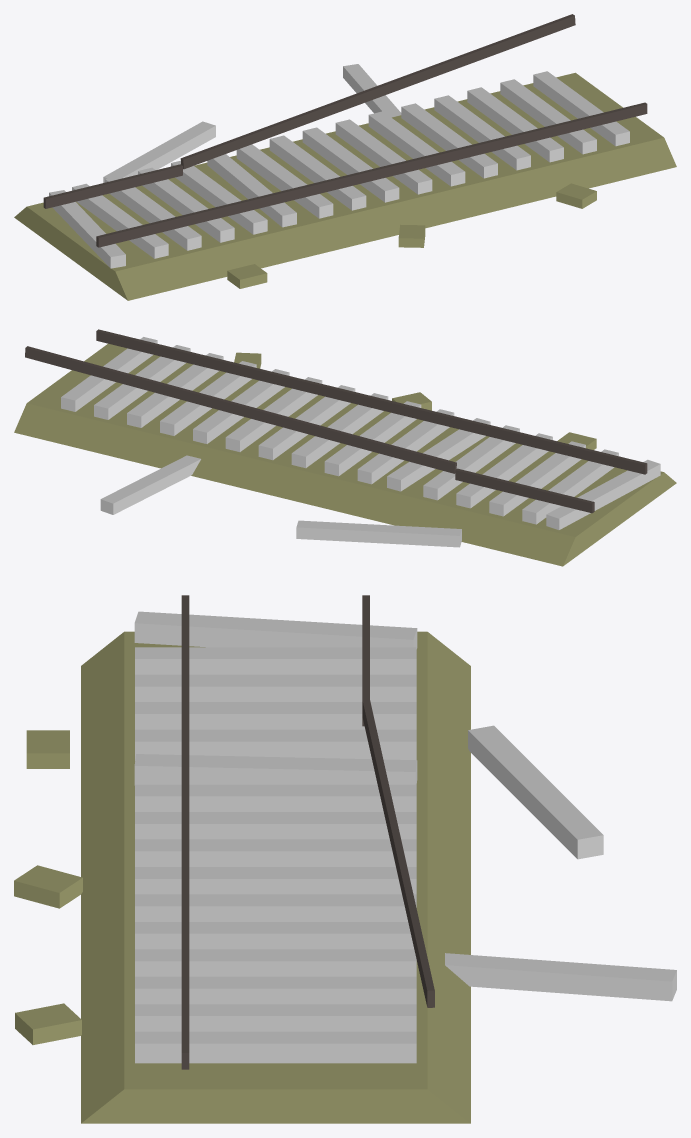
File: SM_Via_Recta10_v4_Danada_LOD0.fbx
The picture shows the model from 3 angles, top to bottom: view 1: azimuth 30°, elevation 25°; view 2: azimuth 150°, elevation 25°; view 3: azimuth 270°, elevation 25°; orthographic projection. The views are drawn at different scales.
Parts seen in each view (by area): view 1: SM_via_trazado_v4_LOD0; view 2: SM_via_trazado_v4_LOD0; view 3: SM_via_trazado_v4_LOD0.
Part boxes in pixels (x1,y1,x2,y2): SM_via_trazado_v4_LOD0: (14, 14, 676, 300); SM_via_trazado_v4_LOD0: (14, 329, 676, 566); SM_via_trazado_v4_LOD0: (14, 595, 676, 1123).
Bounding box in the file's own units: 10.01 × 1.35 × 6.12.
